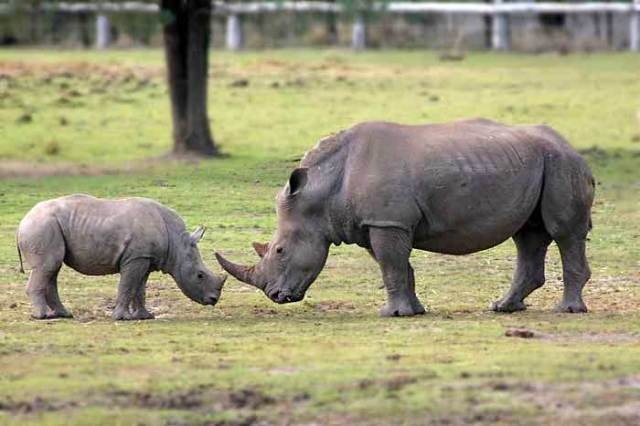rhino: (213, 117, 598, 324), (14, 191, 230, 323)
